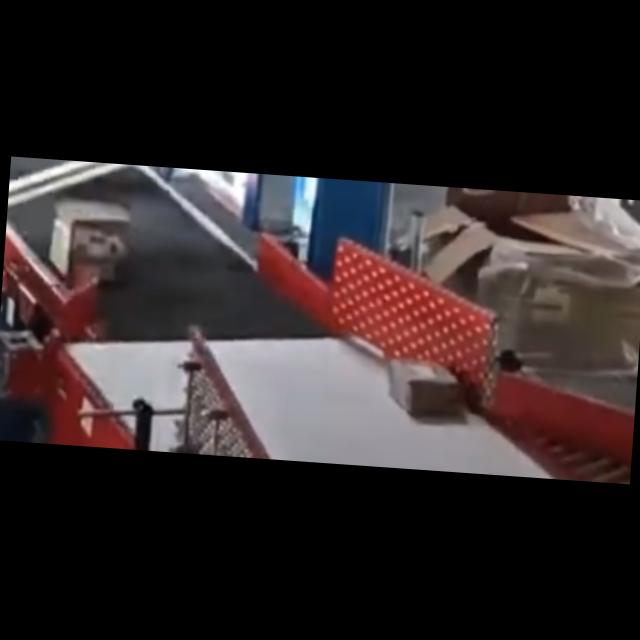box: (48, 198, 132, 286), (386, 356, 463, 421)
